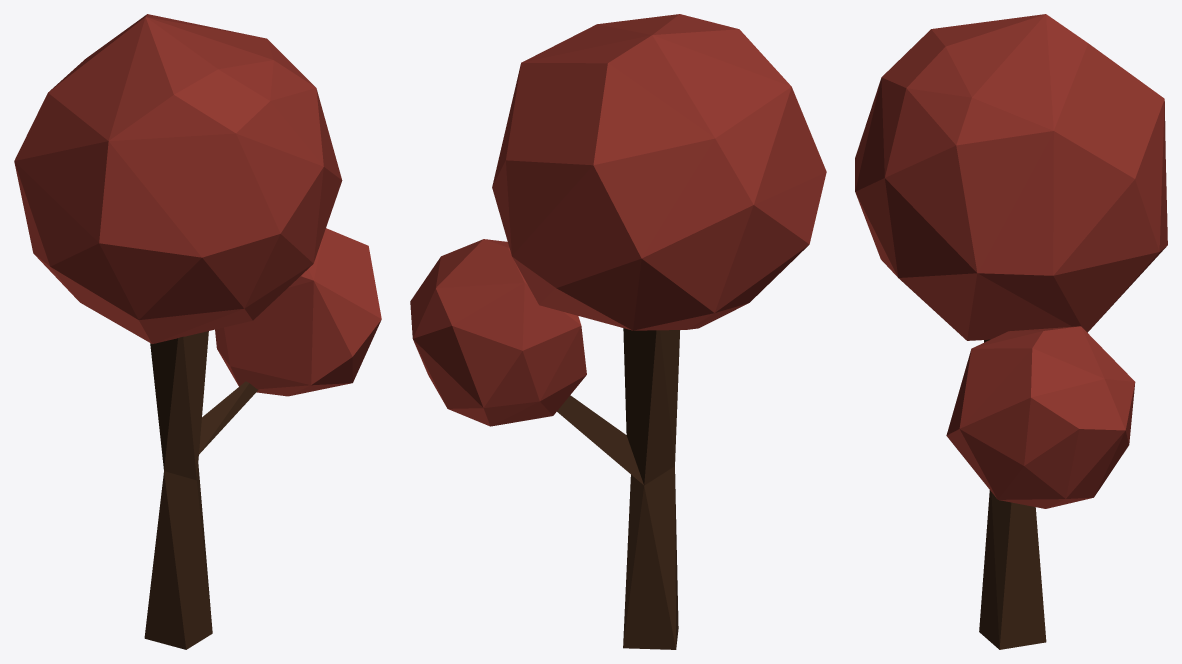
File: Tree_54_Red.fbx
3 renders of one model, left to right at view 1: azimuth 30°, elevation 25°; view 2: azimuth 150°, elevation 25°; view 3: azimuth 270°, elevation 25°, orthographic.
Visible parts, largest first — view 1: Tree_54_Red_Part_1, Tree_54_Red_Part_2, Tree_54_Red_Part_3; view 2: Tree_54_Red_Part_1, Tree_54_Red_Part_2, Tree_54_Red_Part_3; view 3: Tree_54_Red_Part_1, Tree_54_Red_Part_2, Tree_54_Red_Part_3.
Boxes of the visible parts, bbox=[...] form: Tree_54_Red_Part_1: bbox=[14, 14, 342, 343]; Tree_54_Red_Part_2: bbox=[199, 228, 381, 454]; Tree_54_Red_Part_3: bbox=[144, 331, 212, 649]; Tree_54_Red_Part_1: bbox=[492, 14, 826, 330]; Tree_54_Red_Part_2: bbox=[410, 239, 643, 484]; Tree_54_Red_Part_3: bbox=[623, 328, 680, 649]; Tree_54_Red_Part_1: bbox=[855, 14, 1167, 340]; Tree_54_Red_Part_2: bbox=[946, 326, 1135, 508]; Tree_54_Red_Part_3: bbox=[979, 339, 1046, 649].
Bounding box in the file's own units: 358 × 602 × 278.
